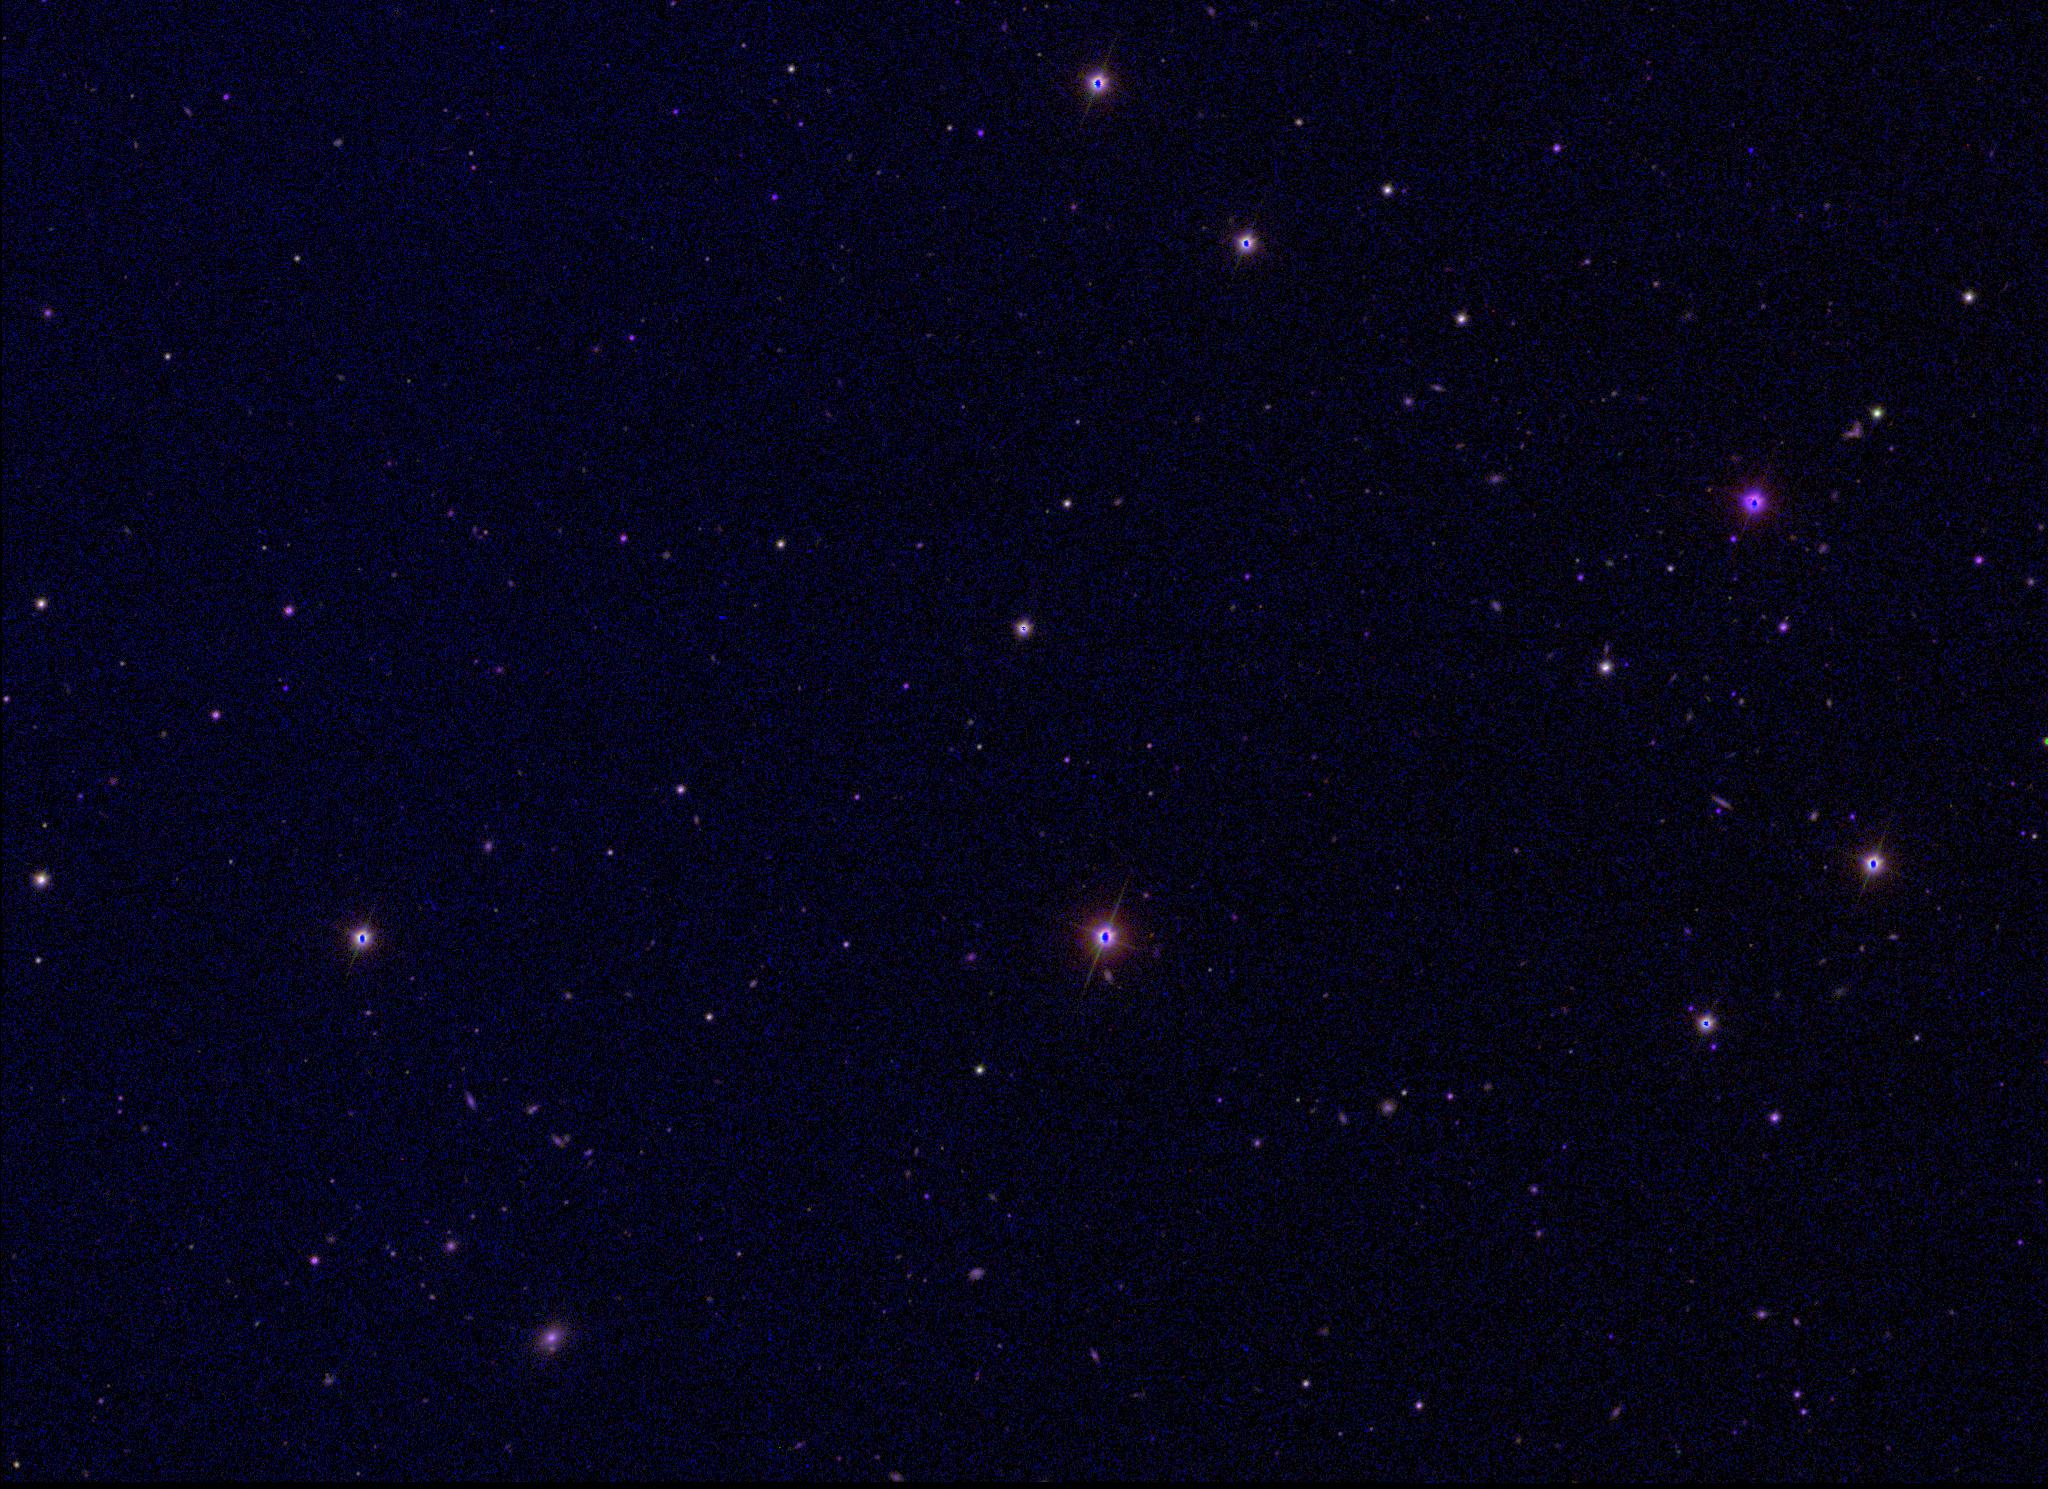L: (1743, 143, 1757, 157)
